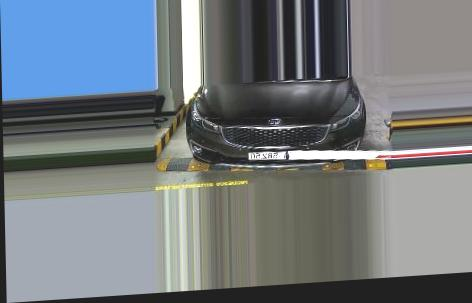License_Plate: (247, 147, 289, 164)
